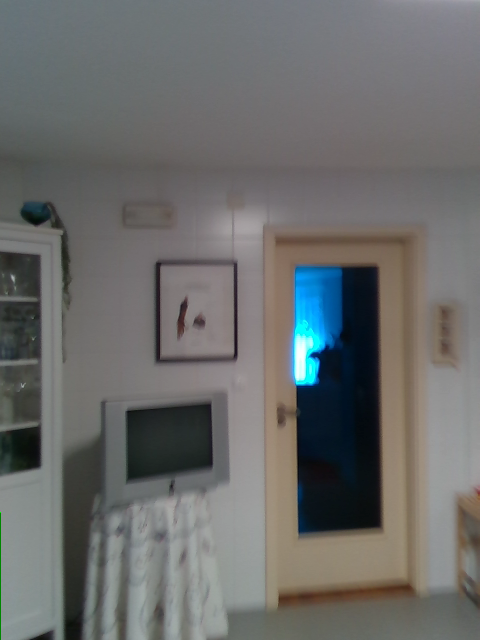closed: (264, 227, 426, 608)
